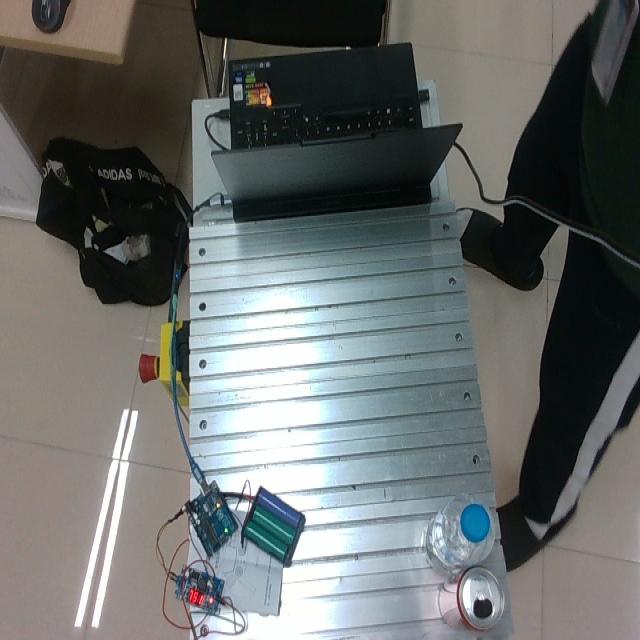coca: (454, 564, 505, 629)
lavie: (424, 492, 495, 579)
